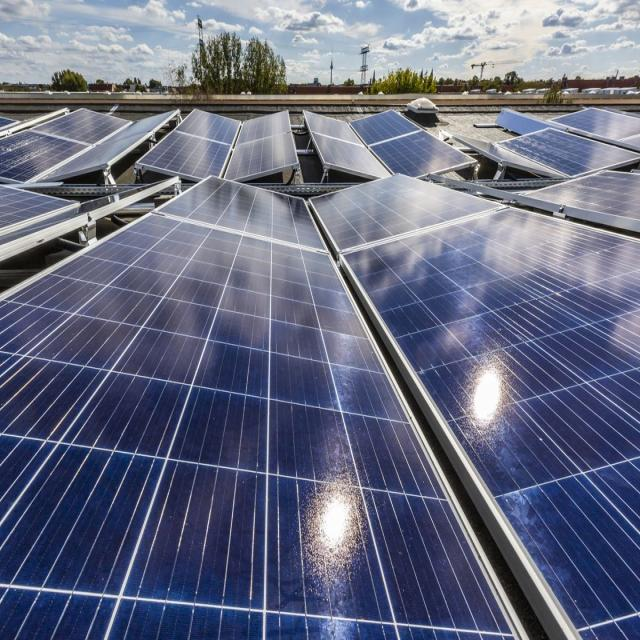clean-solar-panel: (0, 178, 525, 639), (310, 174, 640, 639), (350, 109, 476, 178), (135, 109, 241, 182), (225, 111, 299, 182)
